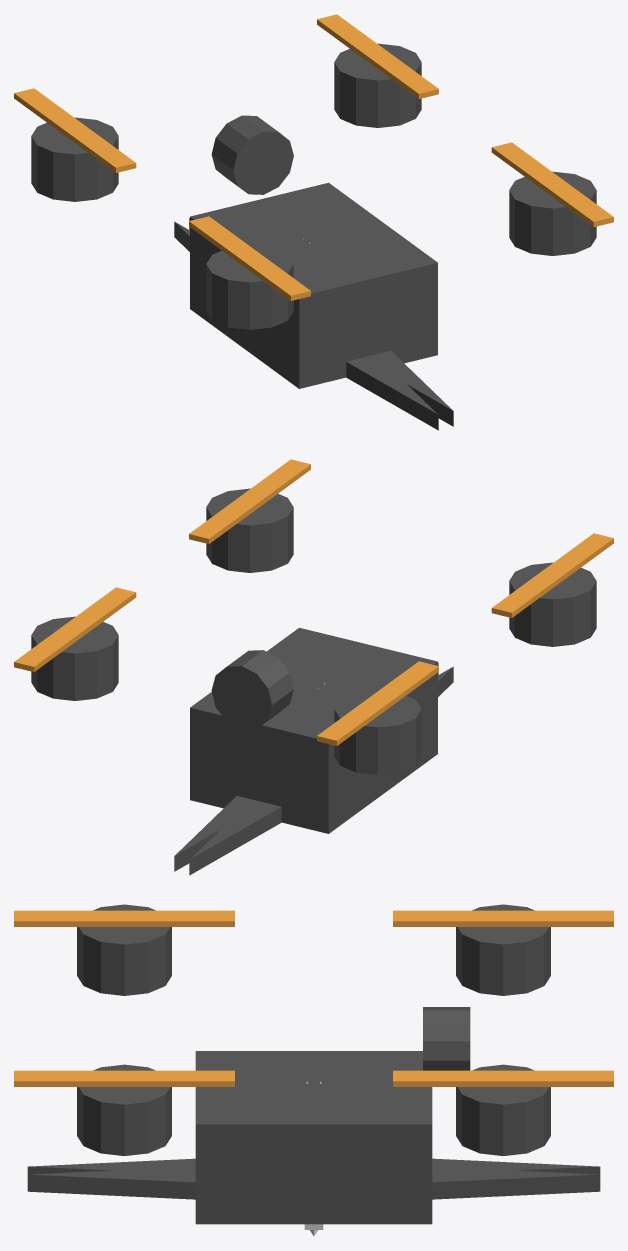
File: RC_Recovery_ClawDrone.fbx
3 views of the same model, one above another, from view 1: azimuth 30°, elevation 25°; view 2: azimuth 150°, elevation 25°; view 3: azimuth 270°, elevation 25° (orthographic). The views are drawn at different scales.
Visible parts, largest first — view 1: Drone_Frame, Rotor_RR, Rotor_FL, Rotor_FR, Rotor_RL; view 2: Drone_Frame, Rotor_FR, Rotor_RL, Rotor_RR, Rotor_FL; view 3: Drone_Frame, Rotor_FL, Rotor_FR, Rotor_RL, Rotor_RR.
Boxes of the visible parts, left/top/right/bottom form: Drone_Frame: left=31, top=43, right=596, bottom=430; Rotor_RR: left=491, top=142, right=613, bottom=226; Rotor_FL: left=14, top=88, right=136, bottom=172; Rotor_FR: left=317, top=14, right=438, bottom=98; Rotor_RL: left=189, top=216, right=310, bottom=300; Drone_Frame: left=31, top=488, right=596, bottom=875; Rotor_FR: left=14, top=587, right=136, bottom=671; Rotor_RL: left=491, top=533, right=613, bottom=617; Rotor_RR: left=189, top=459, right=310, bottom=543; Rotor_FL: left=317, top=661, right=438, bottom=745; Drone_Frame: left=27, top=904, right=600, bottom=1224; Rotor_FL: left=393, top=910, right=613, bottom=926; Rotor_FR: left=393, top=1070, right=613, bottom=1086; Rotor_RL: left=14, top=910, right=234, bottom=926; Rotor_RR: left=14, top=1070, right=234, bottom=1086.
Bounding box in the file's own units: 1.5 × 0.8321 × 1.9.
